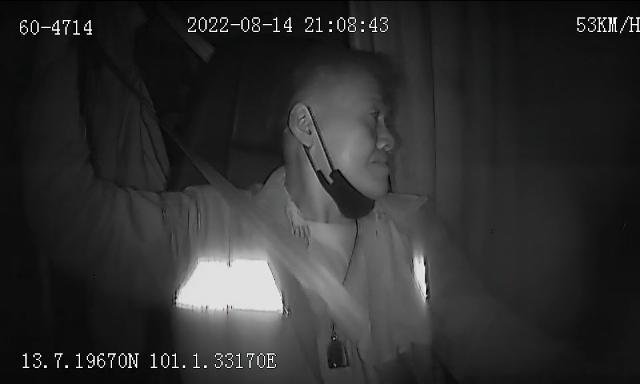Seatbelt: (188, 152, 370, 330)
